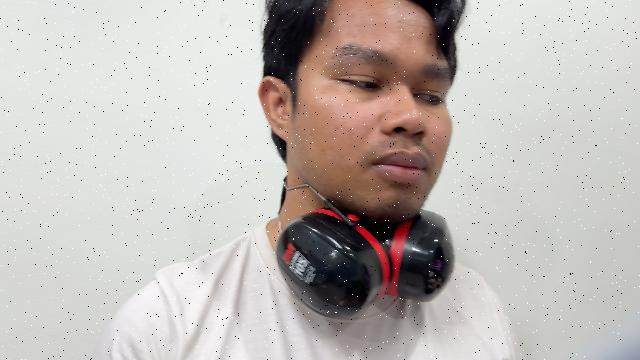headphones: (277, 179, 454, 317)
right_ear: (258, 75, 293, 144)
